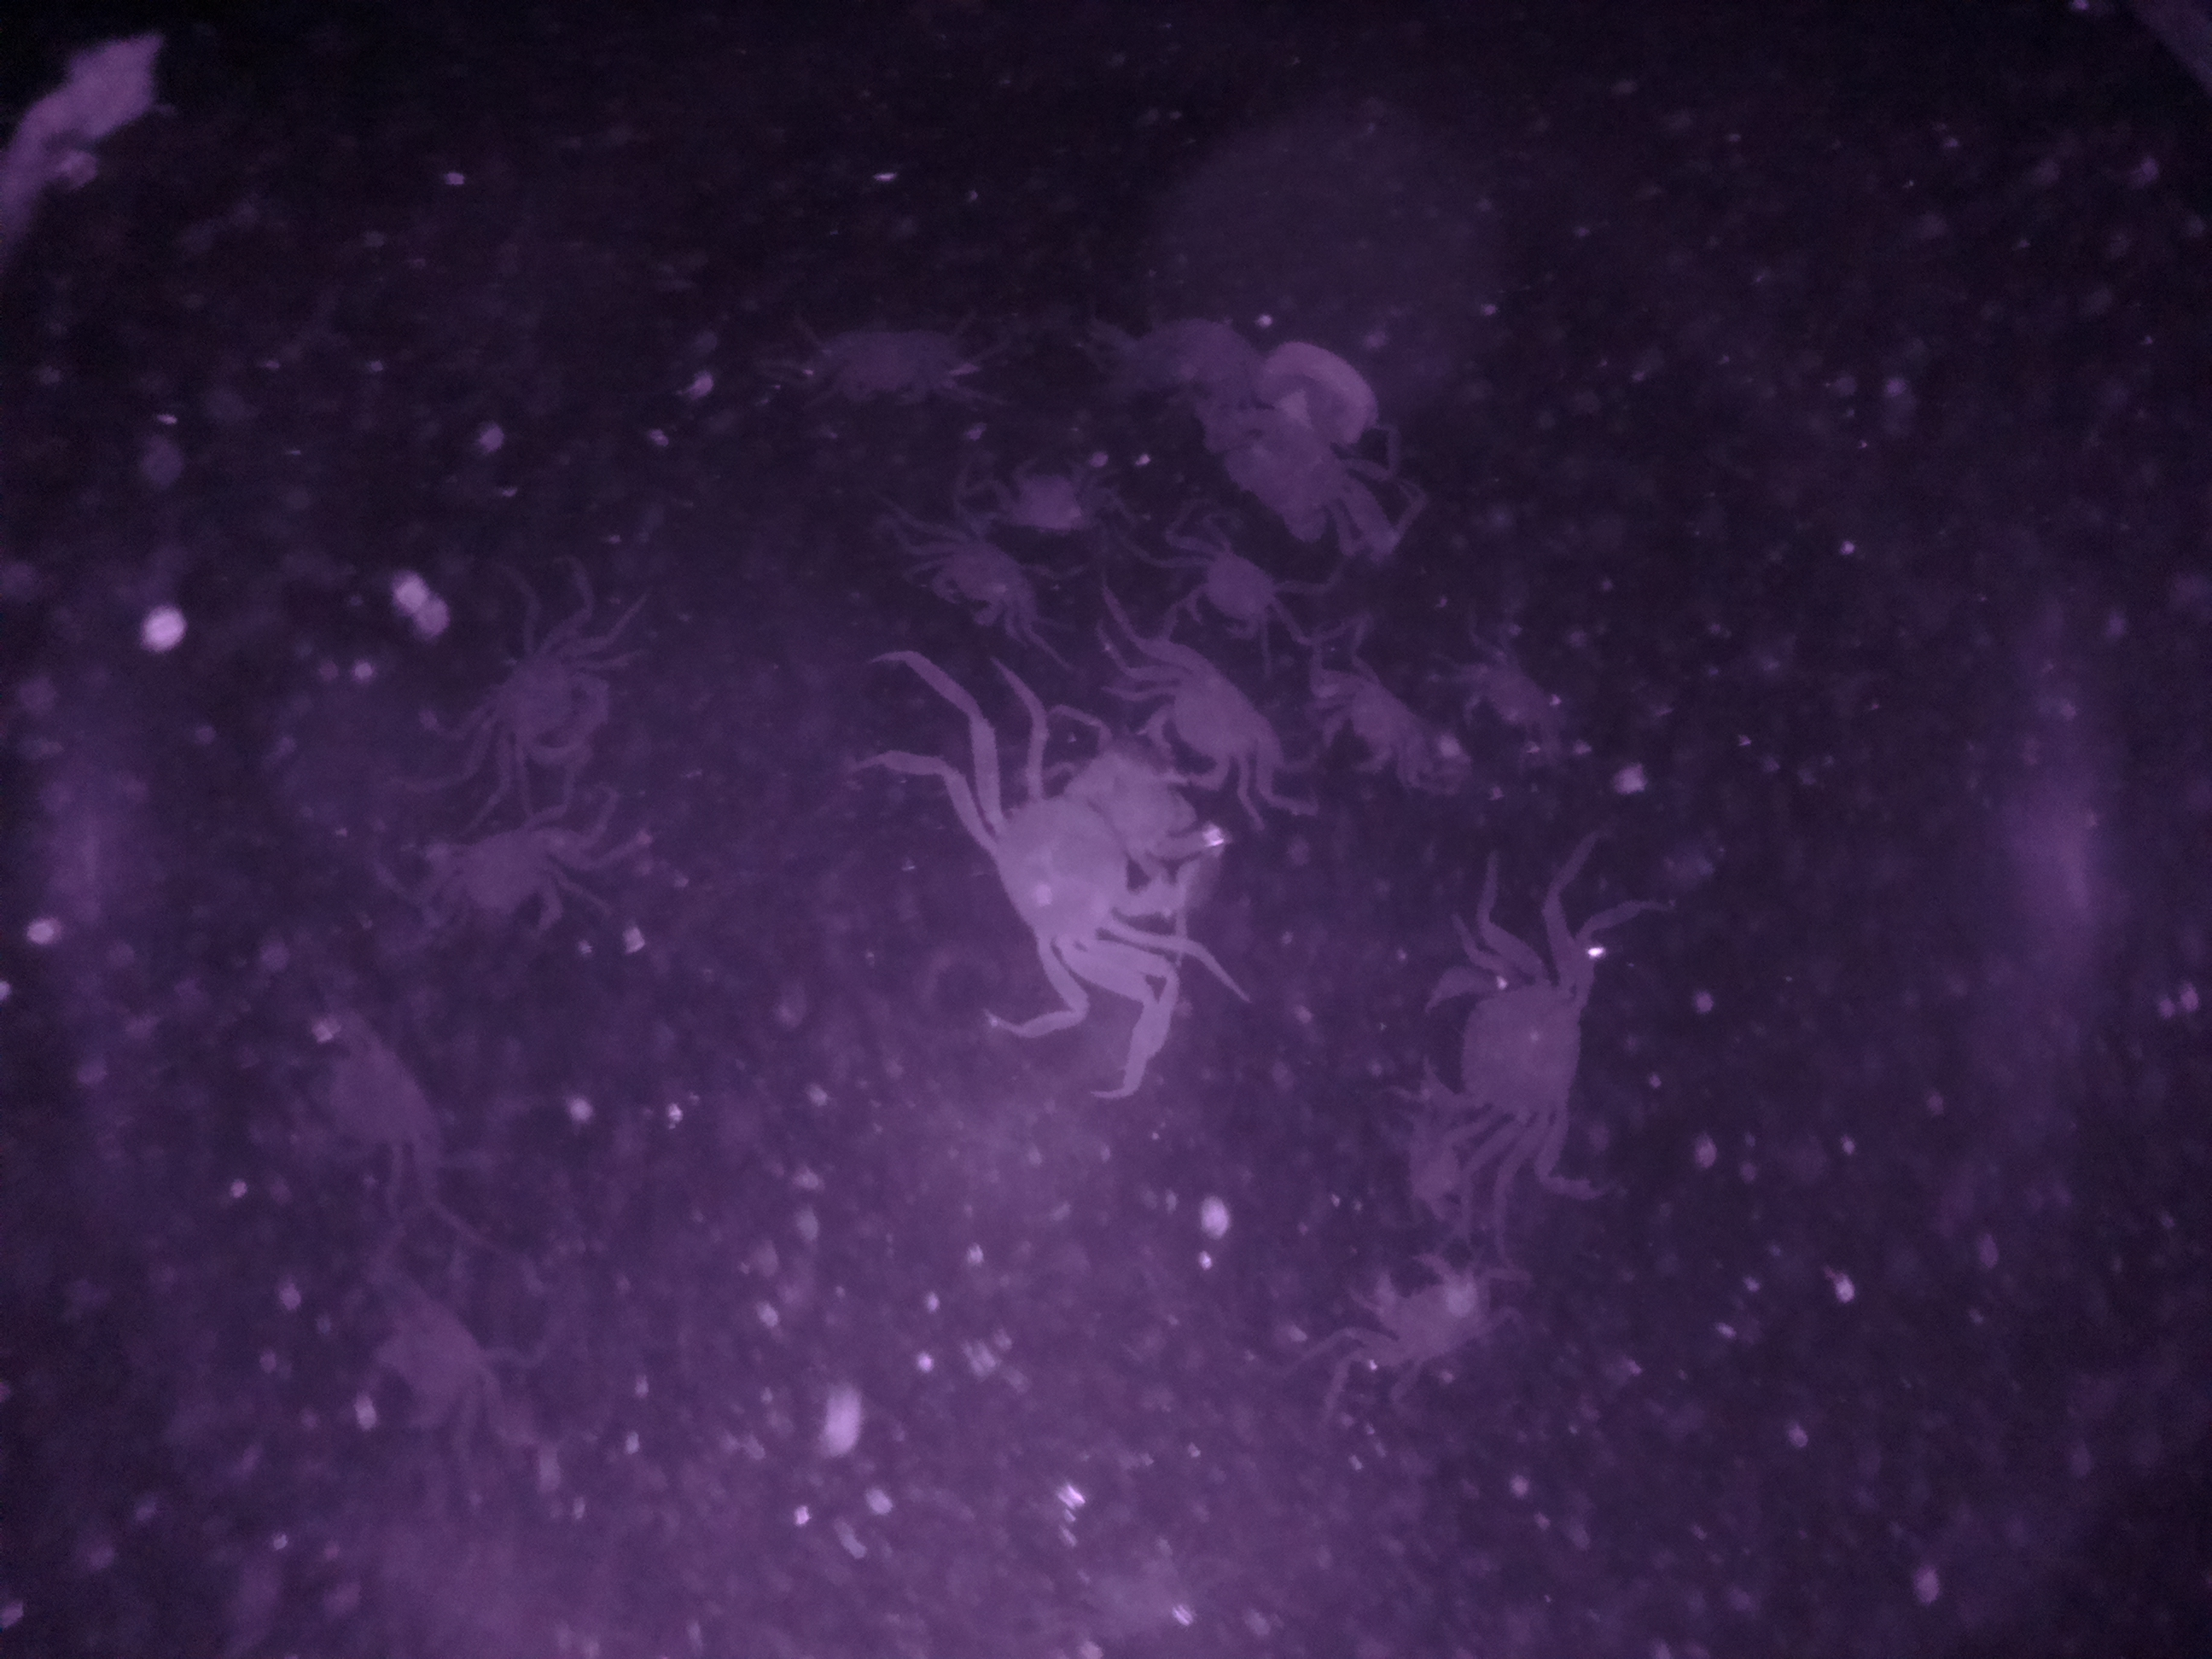Crab: (1385, 941, 1613, 1150), (1324, 1227, 1517, 1387), (460, 615, 634, 793), (1129, 636, 1287, 802), (1157, 514, 1312, 660), (916, 518, 1043, 645)
